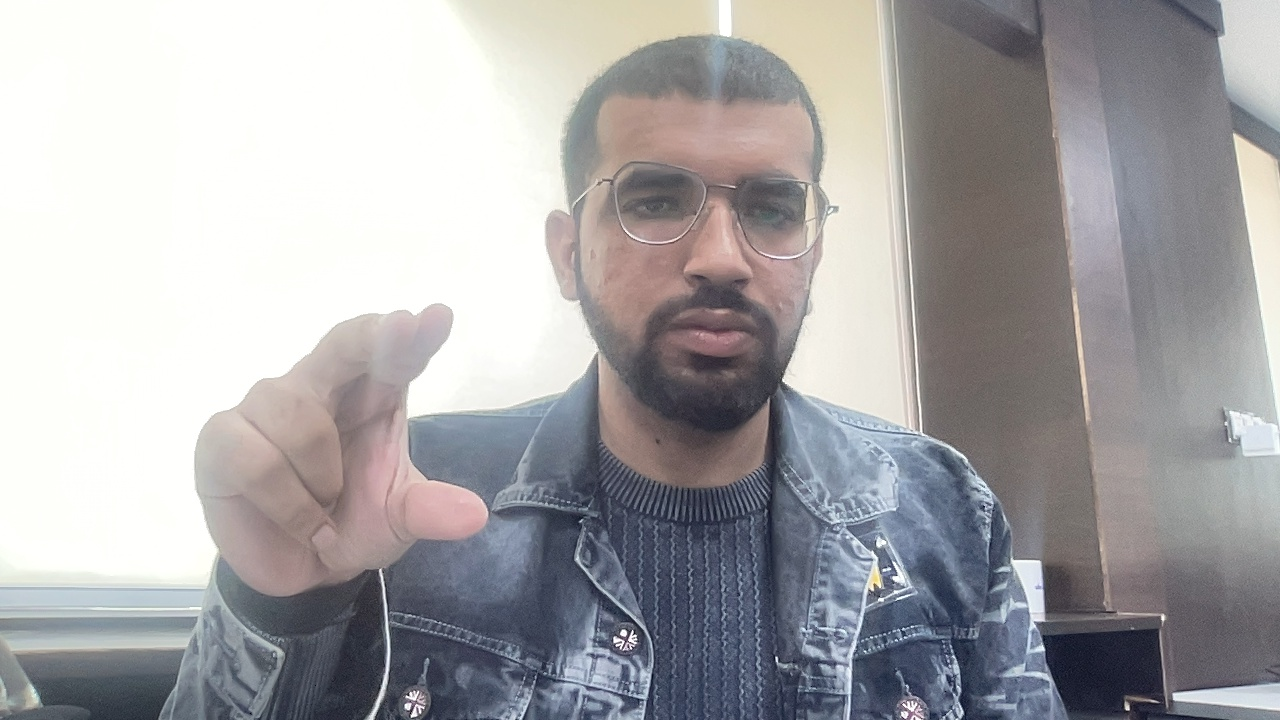No: (151, 286, 555, 614)
